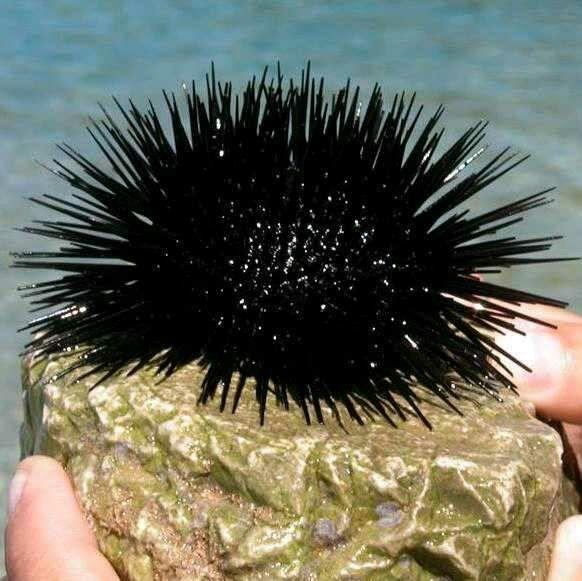urchin: (20, 64, 545, 413)
